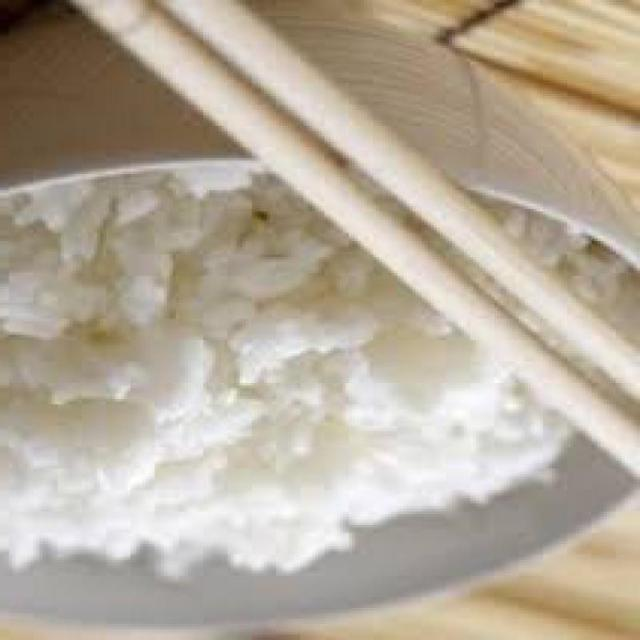nasi_putih: (1, 170, 616, 576)
